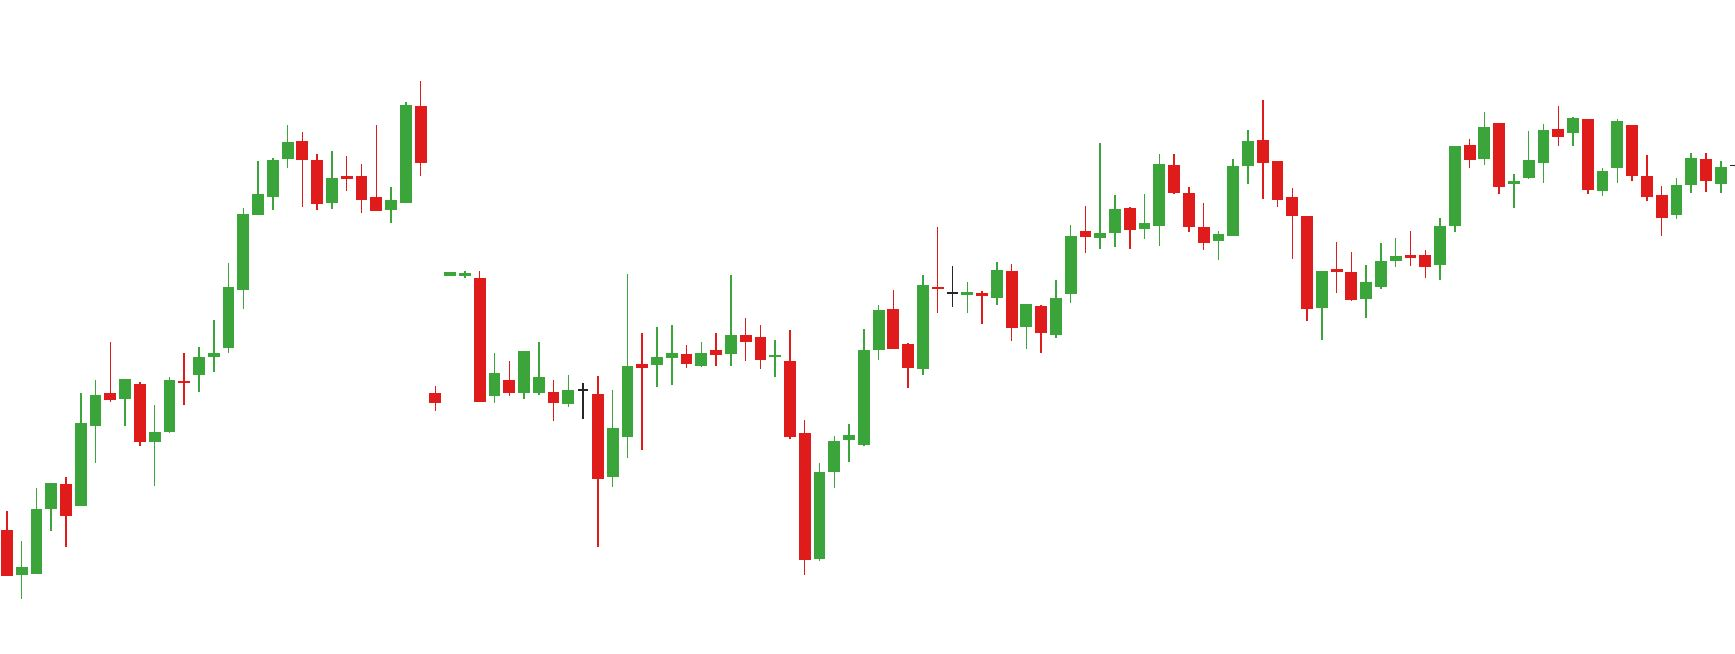buy: (588, 378, 828, 578), (86, 381, 162, 487)
sell: (276, 76, 427, 198), (1150, 101, 1270, 228), (1476, 102, 1566, 181)
